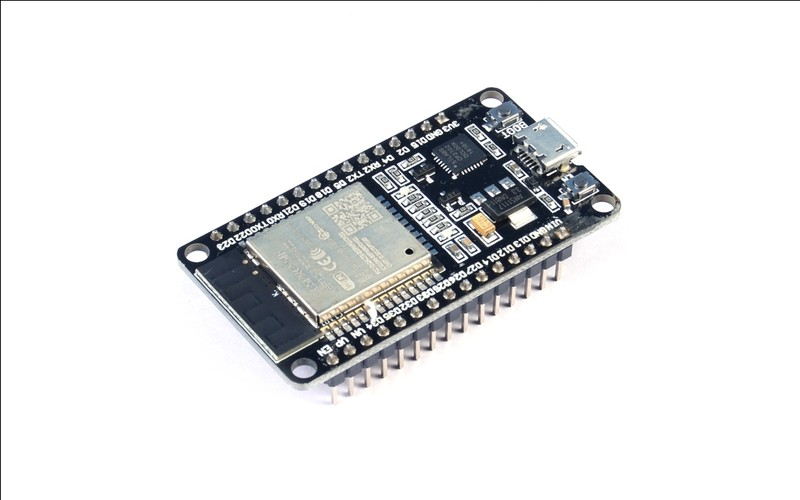IoT Sensor: (138, 83, 644, 415)
